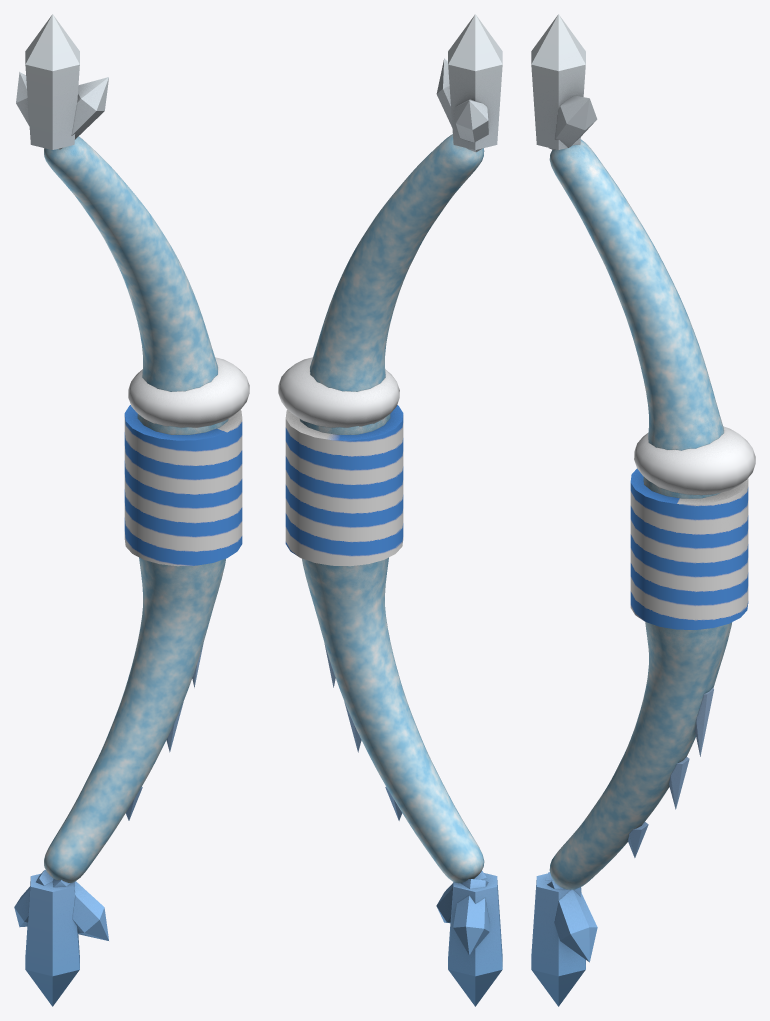
The model's file is Ice Bow.fbx.
3 renders of one model, left to right at view 1: azimuth 30°, elevation 25°; view 2: azimuth 150°, elevation 25°; view 3: azimuth 330°, elevation 25°, orthographic.
Visible parts, largest first — view 1: Ice Bow; view 2: Ice Bow; view 3: Ice Bow.
Boxes of the visible parts, x1,y1,x2,y2 form: Ice Bow: [14, 14, 249, 1006]; Ice Bow: [278, 14, 502, 1006]; Ice Bow: [531, 14, 755, 1006].
Bounding box in the file's own units: 4 × 17.4 × 1.88.
1 material, 1 textured.
